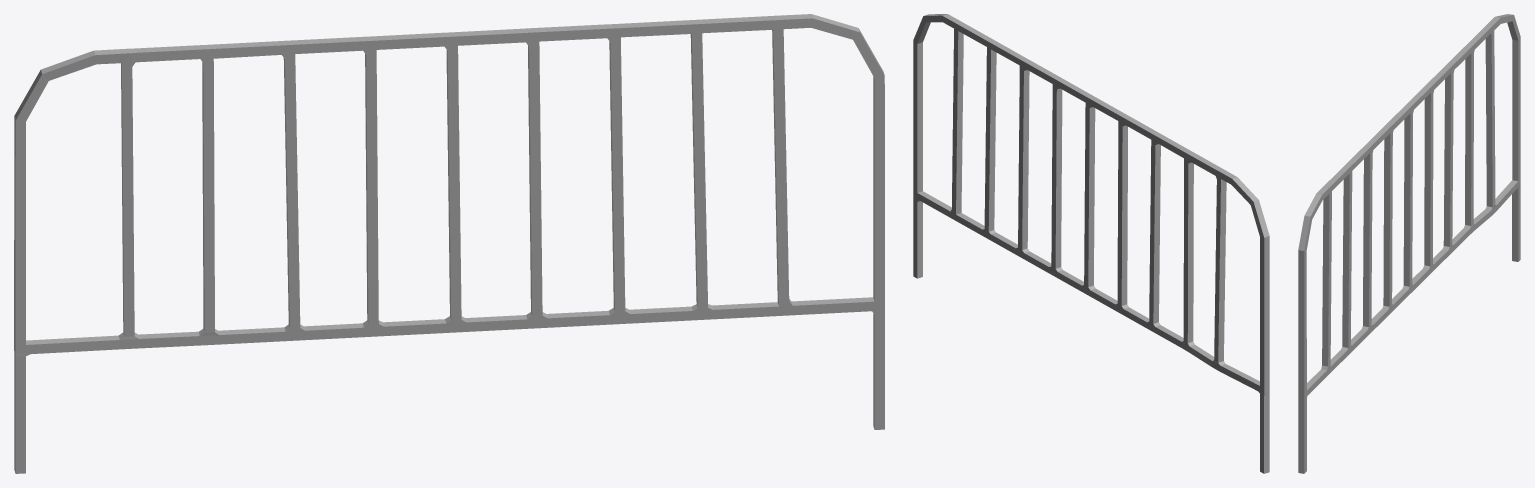
The model's file is Safety Guard Railling.fbx.
The picture shows the model from 3 angles, left to right: view 1: azimuth 30°, elevation 25°; view 2: azimuth 150°, elevation 25°; view 3: azimuth 270°, elevation 25°; orthographic projection. The views are drawn at different scales.
Parts seen in each view (by area): view 1: Safety Guard Railling; view 2: Safety Guard Railling; view 3: Safety Guard Railling.
Part boxes in pixels (<box>): Safety Guard Railling: <box>14,14,884,473</box>; Safety Guard Railling: <box>913,14,1269,473</box>; Safety Guard Railling: <box>1298,14,1520,473</box>.
Size of the model in its own units: 336 by 146 by 190.
